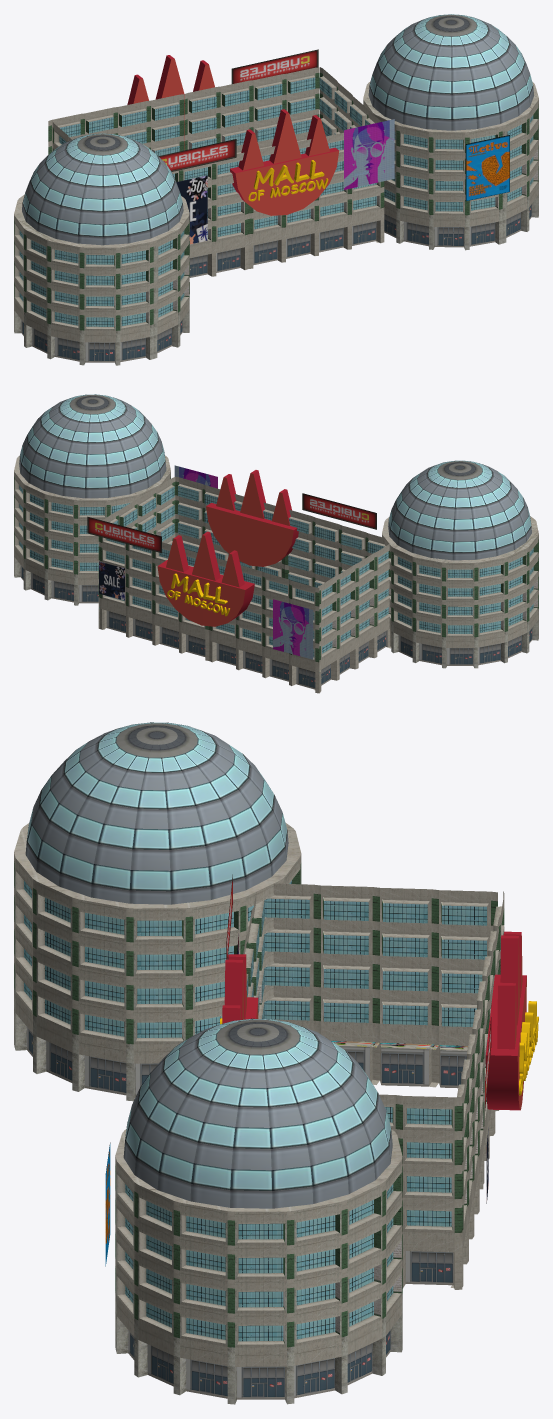
The model's file is mall_of_moscow.glb.
3 views of the same model, one above another, from view 1: azimuth 30°, elevation 25°; view 2: azimuth 150°, elevation 25°; view 3: azimuth 270°, elevation 25° (orthographic). The views are drawn at different scales.
Visible parts, largest first — view 1: pCylinder25__1_, pCylinder25, pCylinder25__3_, pCylinder25__4_, pCylinder30__4_, pCylinder30, mall_pic, pCylinder30__3_, pCylinder30__1_, poster27__61_, poster27__44_, pCylinder30__5_ (+5 smaller); view 2: pCylinder25__1_, pCylinder25__3_, pCylinder25__4_, pCylinder25, pCylinder30__1_, pCylinder30__2_, pCylinder30, mall_pic, mall_pic__1_, pCylinder30__3_, pCylinder30__4_, pCylinder30__5_ (+6 smaller); view 3: pCylinder25, pCylinder25__1_, pCylinder25__3_, pCylinder25__4_, pCylinder30__2_, pCylinder30__5_, mall_pic__1_, pCylinder30, pCylinder30__1_, pCylinder30__3_, mall_pic, typeMesh1__2_.
Boxes of the visible parts, box(x1,y1,x2,y2) form: pCylinder25__1_: box(14, 194, 189, 365); pCylinder25: box(363, 81, 538, 250); pCylinder25__3_: box(368, 14, 534, 130); pCylinder25__4_: box(22, 133, 183, 245); pCylinder30__4_: box(248, 132, 384, 268); pCylinder30: box(184, 67, 319, 153); mall_pic: box(230, 109, 339, 215); pCylinder30__3_: box(172, 152, 248, 277); pCylinder30__1_: box(48, 94, 183, 155); poster27__61_: box(344, 119, 394, 189); poster27__44_: box(465, 135, 509, 201); pCylinder30__5_: box(319, 67, 381, 242); pCylinder25__1_: box(382, 516, 538, 668); pCylinder25__3_: box(19, 394, 166, 498); pCylinder25__4_: box(388, 460, 531, 560); pCylinder25: box(14, 455, 170, 605); pCylinder30__1_: box(209, 558, 321, 693); pCylinder30__2_: box(314, 544, 391, 690); pCylinder30: box(99, 536, 209, 660); mall_pic: box(206, 470, 298, 566); mall_pic__1_: box(157, 531, 254, 626); pCylinder30__3_: box(285, 510, 391, 648); pCylinder30__4_: box(175, 476, 284, 578); pCylinder30__5_: box(98, 477, 175, 629); pCylinder25: box(115, 1129, 402, 1404); pCylinder25__1_: box(14, 822, 301, 1101); pCylinder25__3_: box(123, 1018, 392, 1208); pCylinder25__4_: box(25, 722, 288, 904); pCylinder30__2_: box(264, 883, 497, 1088); pCylinder30__5_: box(379, 1094, 462, 1289); mall_pic__1_: box(485, 931, 526, 1110); pCylinder30: box(450, 994, 483, 1288); pCylinder30__1_: box(477, 891, 504, 1183); pCylinder30__3_: box(243, 892, 264, 1018); mall_pic: box(222, 954, 258, 1023); typeMesh1__2_: box(519, 1001, 538, 1095).
Bounding box in the file's own units: 93.19 × 32.1 × 48.74.
4 materials, 4 textured.
